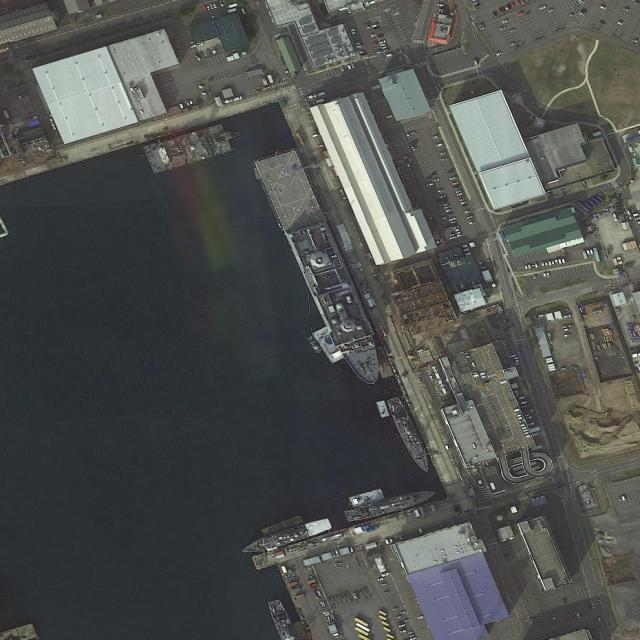Auxiliary Ships: (251, 141, 396, 396)
Other Warship: (239, 515, 334, 558), (385, 394, 434, 476), (343, 484, 438, 524)
